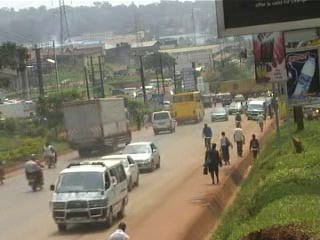Car: (98, 151, 142, 190), (121, 139, 162, 172), (208, 105, 229, 122), (227, 101, 244, 115)
Motorcycle: (24, 152, 48, 196), (40, 140, 59, 169), (0, 153, 8, 187)
